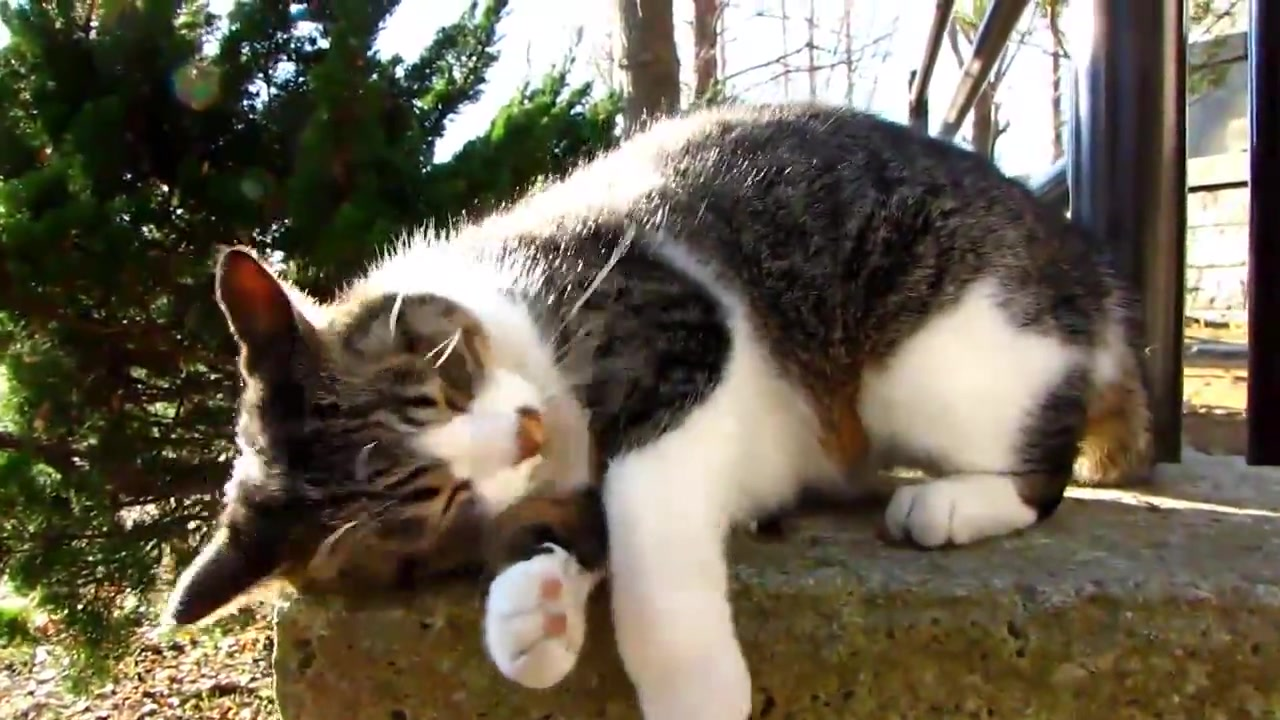cat: (169, 88, 1161, 720)
